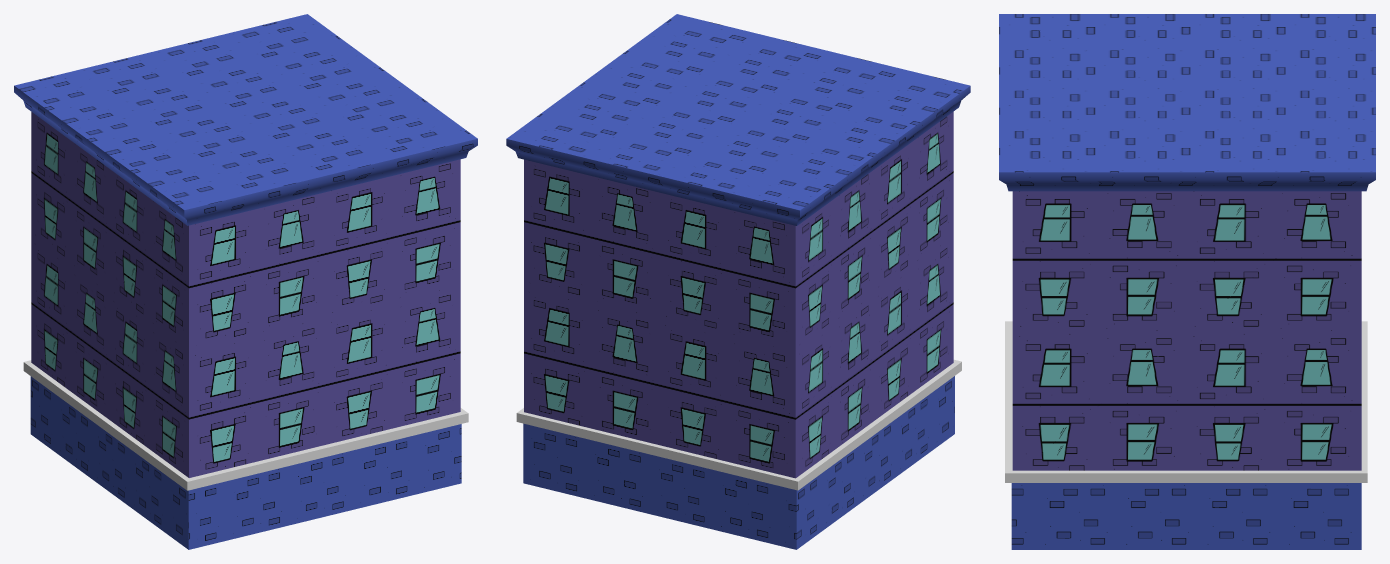
The picture shows the model from 3 angles, left to right: view 1: azimuth 30°, elevation 25°; view 2: azimuth 150°, elevation 25°; view 3: azimuth 270°, elevation 25°; orthographic projection. The views are drawn at different scales.
Parts seen in each view (by area): view 1: Box003, Box004, Box001, Box002; view 2: Box003, Box004, Box001, Box002; view 3: Box003, Box004, Box001, Box002.
Part boxes in pixels (box(x1,y1,x2,y2)): Box003: box(31, 112, 460, 477); Box004: box(14, 14, 477, 225); Box001: box(30, 376, 461, 549); Box002: box(23, 360, 468, 490); Box003: box(524, 112, 953, 478); Box004: box(506, 14, 970, 225); Box001: box(523, 376, 954, 549); Box002: box(516, 359, 961, 490); Box003: box(1012, 191, 1361, 470); Box004: box(999, 14, 1375, 191); Box001: box(1011, 483, 1361, 549); Box002: box(1005, 321, 1367, 482).
Size of the model in its own units: 11.73 by 13.23 by 11.8.
